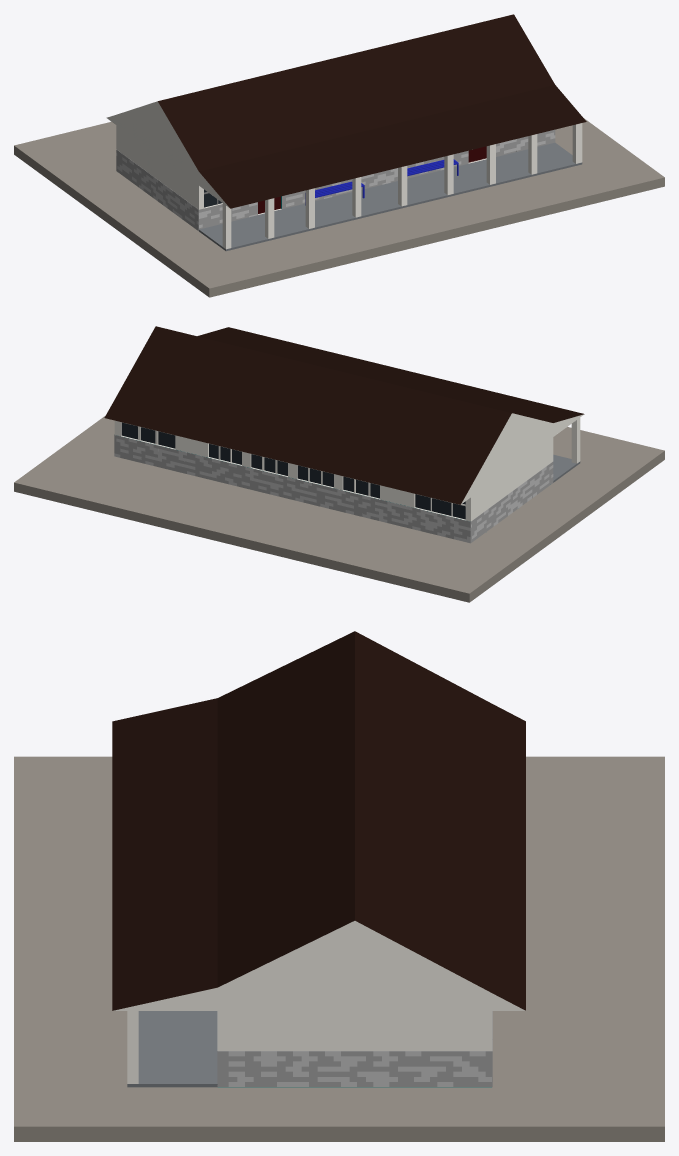
The model's file is pakjoko2.glb.
3 renders of one model, top to bottom at view 1: azimuth 30°, elevation 25°; view 2: azimuth 150°, elevation 25°; view 3: azimuth 270°, elevation 25°, orthographic. The views are drawn at different scales.
Visible parts, largest first — view 1: Cube.002, Cube.013; view 2: Cube.002; view 3: Cube.002.
Boxes of the visible parts, <box> form: Cube.002: <box>14,14,664,297</box>; Cube.013: <box>305,159,458,205</box>; Cube.002: <box>14,326,664,602</box>; Cube.002: <box>14,631,664,1141</box>.
Bounding box in the file's own units: 30.74 × 7.04 × 22.85.
